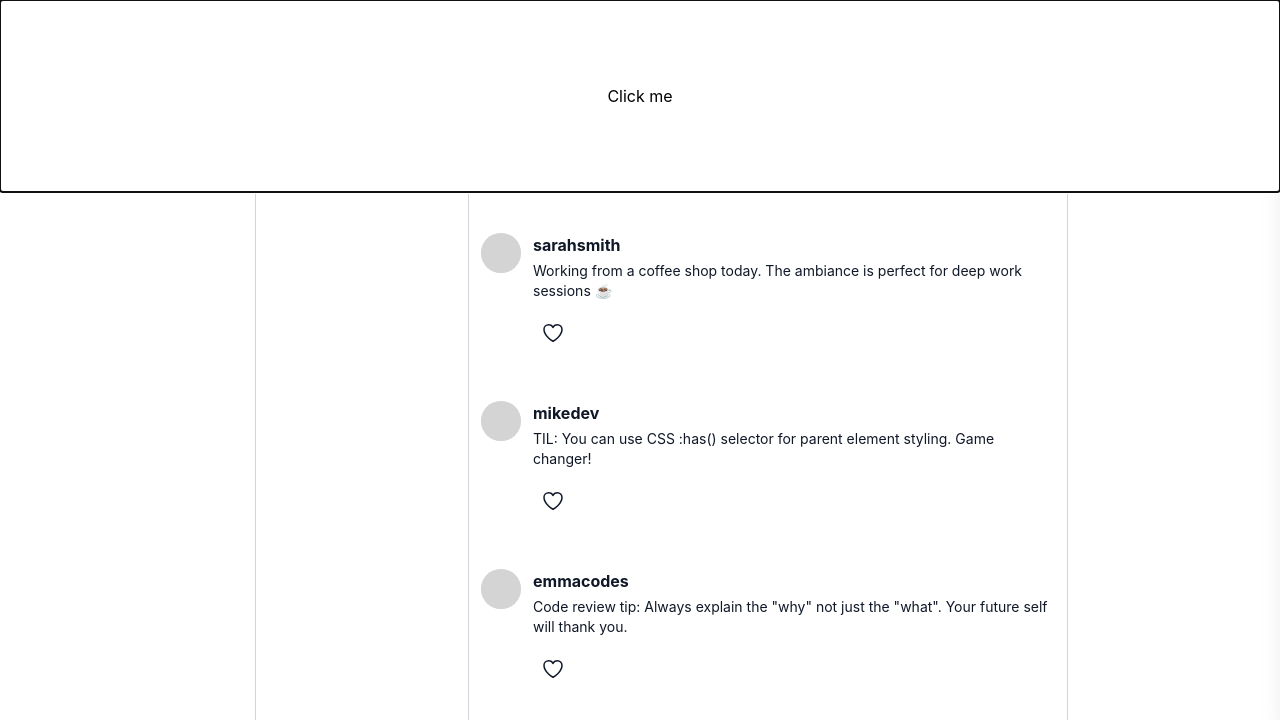
Test: App › keeps portalled popups above the app z-index layers
Check: the heading "TDDWitter" is shown, box [469,0,1067,61]
Click the button "Click me" at (640, 96), box [0,0,1279,192]
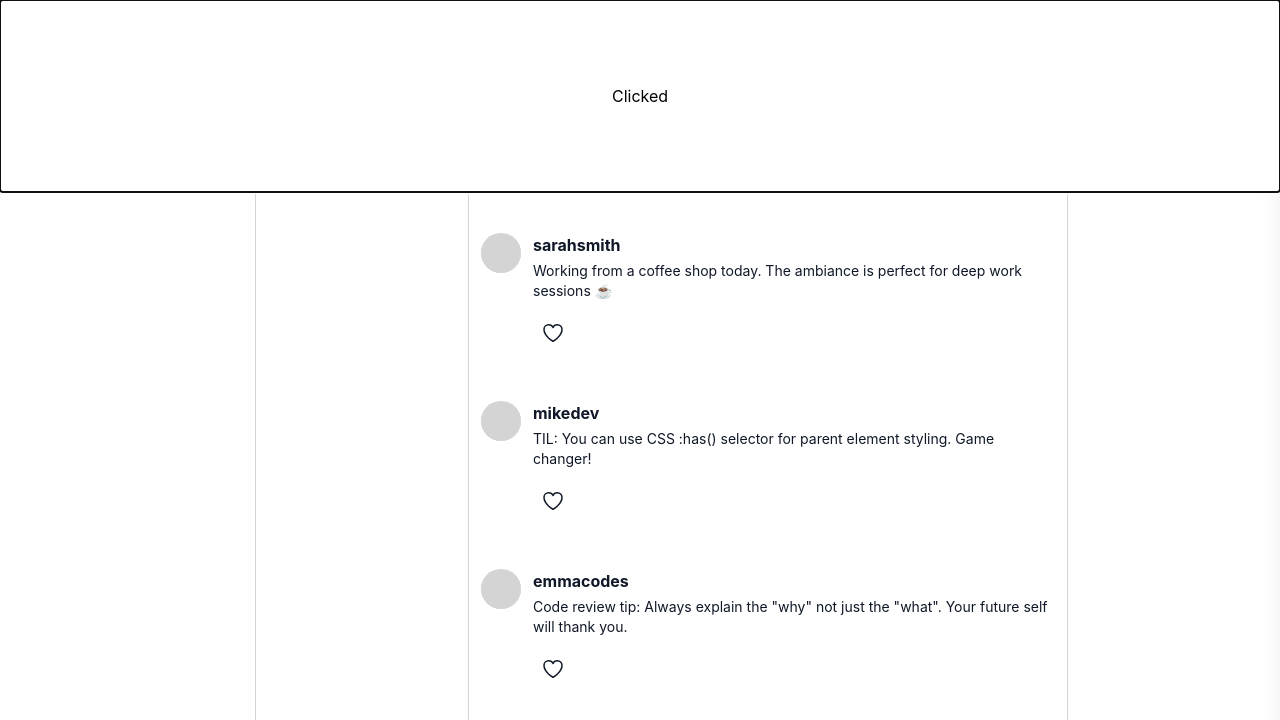
Check: the button "Clicked" is shown, box [0,0,1279,192]
